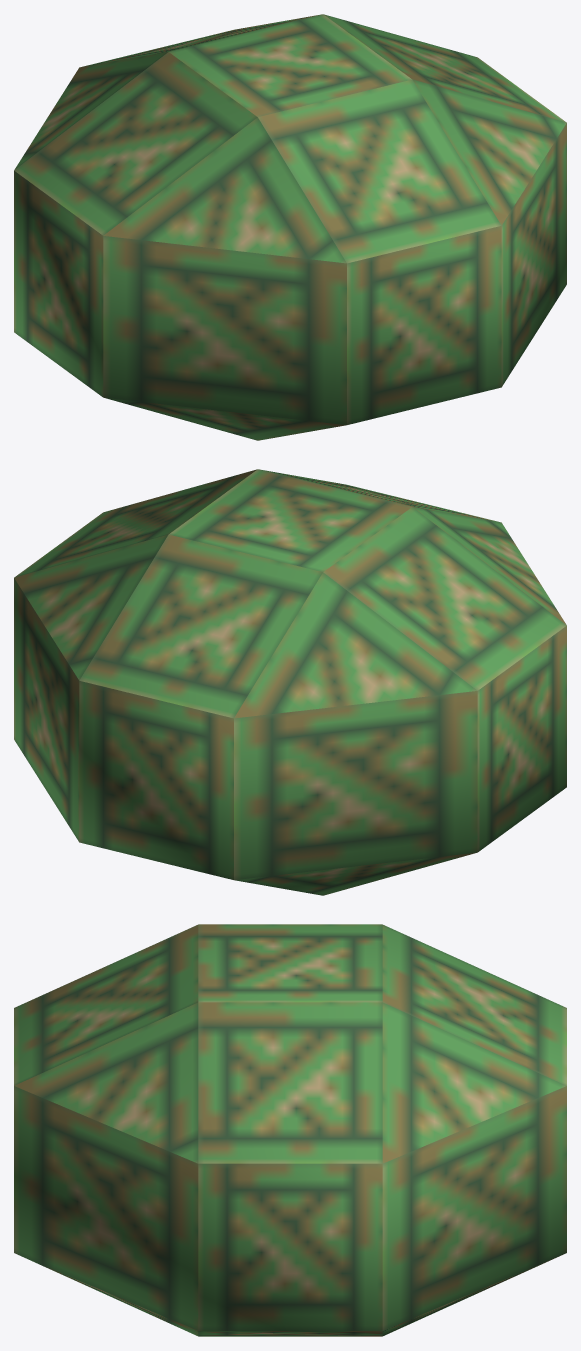
File: octagon-spherocylindrical-48x48x48.obj
3 renders of one model, top to bottom at view 1: azimuth 30°, elevation 25°; view 2: azimuth 150°, elevation 25°; view 3: azimuth 270°, elevation 25°, orthographic. The views are drawn at different scales.
Parts seen in each view (by area): view 1: Default; view 2: Default; view 3: Default.
Boxes of the visible parts, box(x1,y1,x2,y2) form: Default: box(14, 14, 566, 440); Default: box(14, 469, 566, 895); Default: box(14, 924, 566, 1336).
Size of the model in its own units: 3 by 2 by 3.
